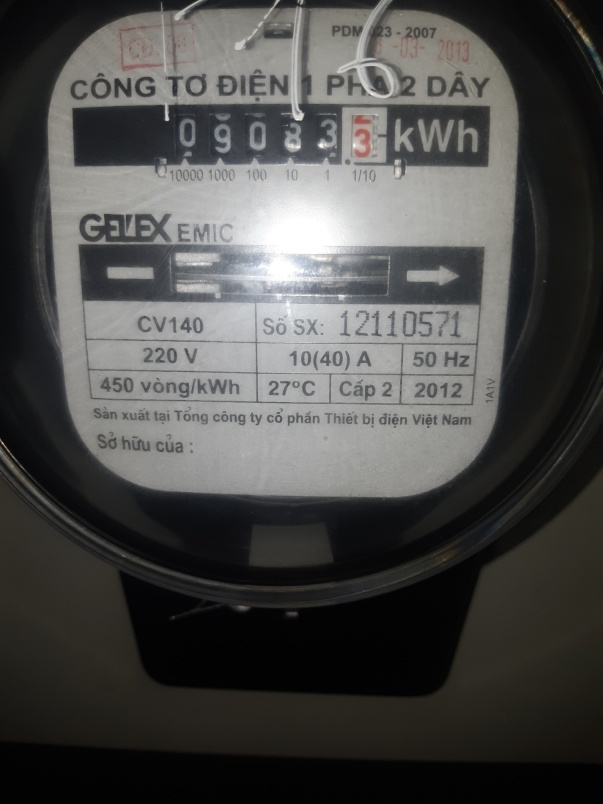counter: (71, 104, 491, 164)
electricity_meter: (16, 5, 584, 575)
